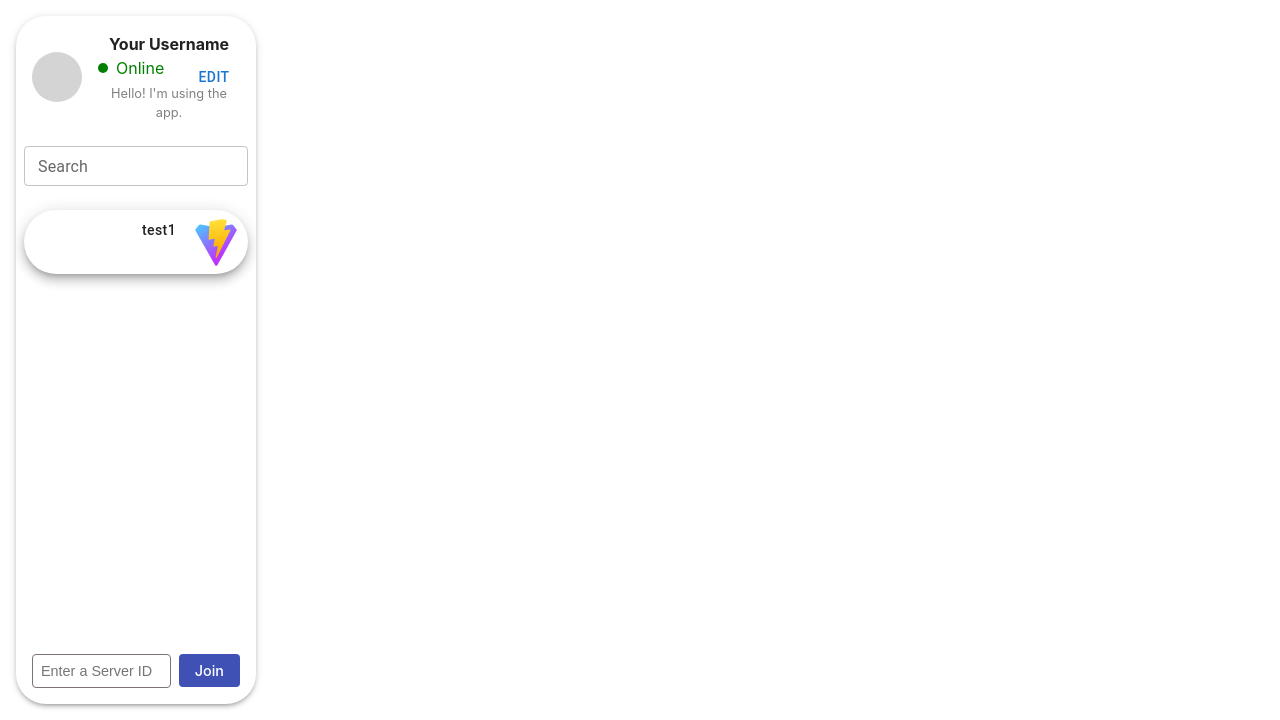
Test: CustomUserBadge › shows the new About Me text in the badge after saving
Click the button "Edit".
click(214, 77)  # box [182,59,246,95]
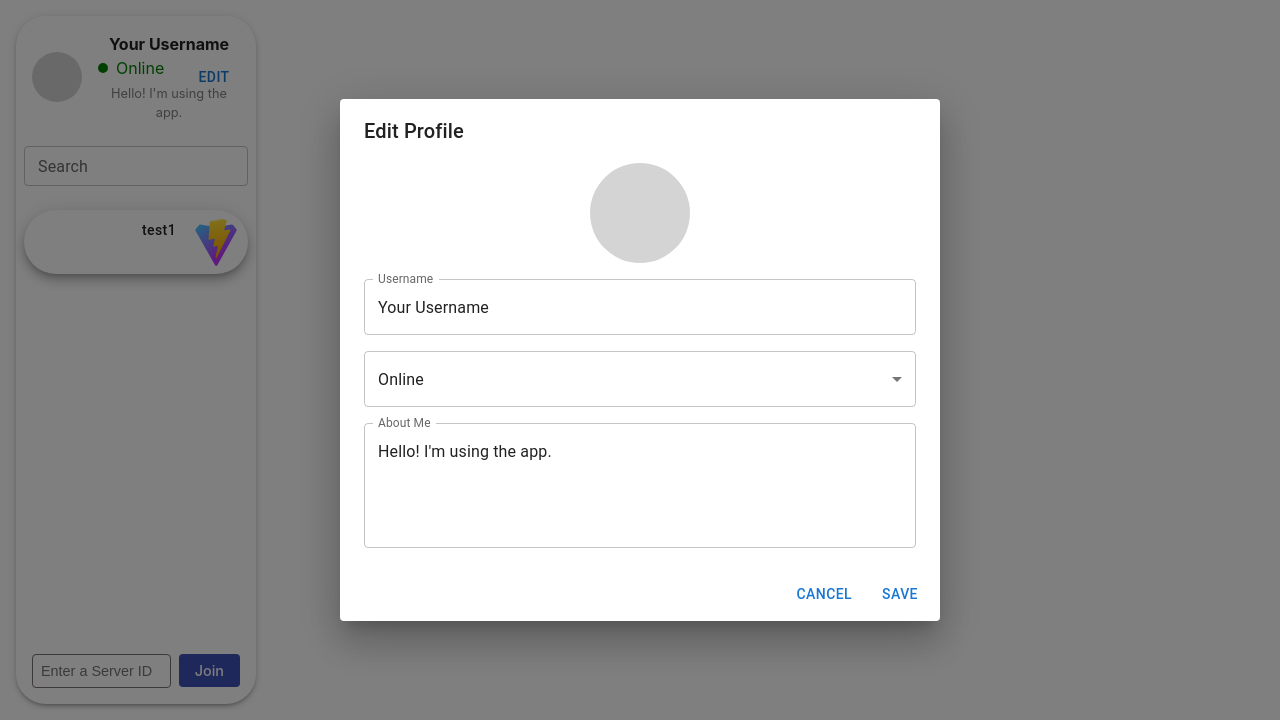
Replace the text in the text box labelled "About Me" with "New bio here" at [640, 486], box [378,440,902,532]
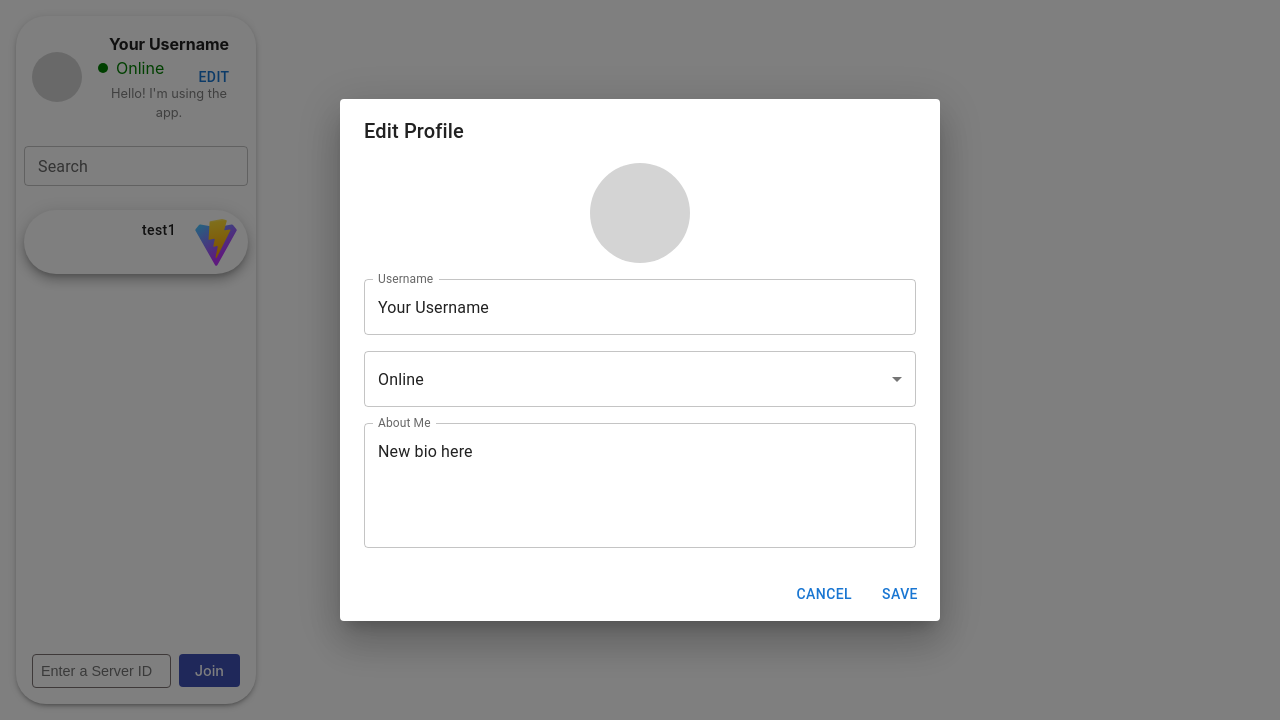
Click the button "Save".
click(900, 595)  # box [868,576,932,613]
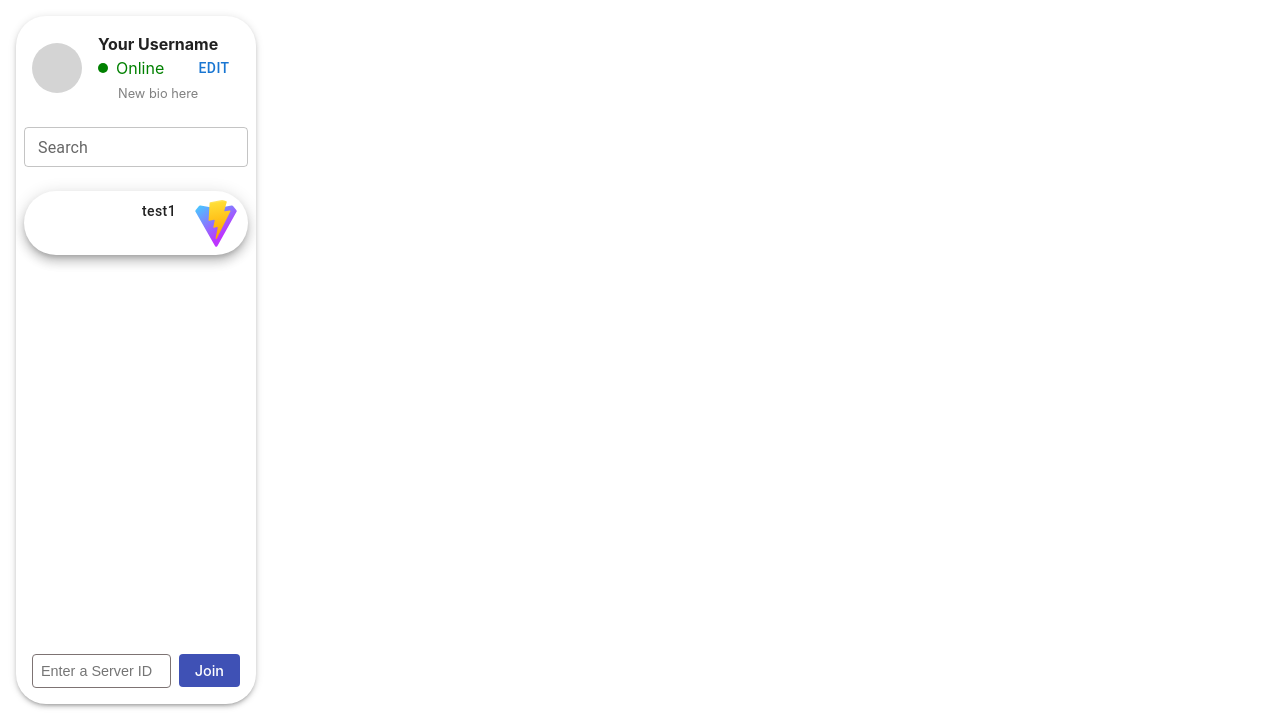
Now the text "New bio here" is shown, box [118,86,198,101]
